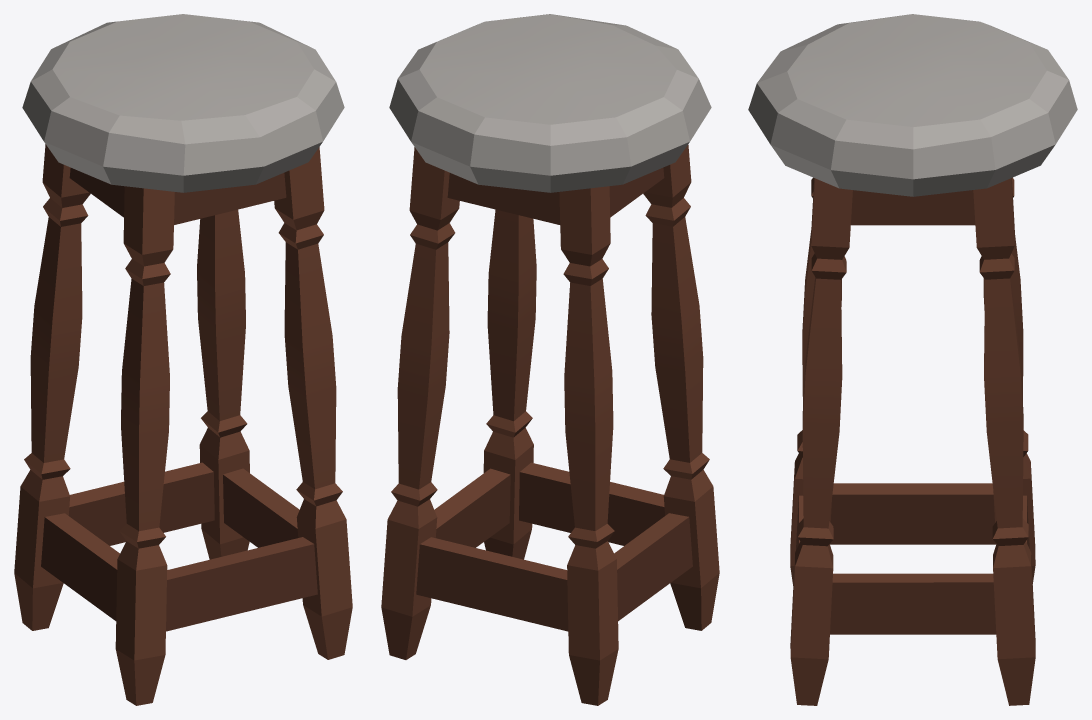
Rendered from SM_Prop_Bar_Stool_02.obj.
3 renders of one model, left to right at view 1: azimuth 30°, elevation 25°; view 2: azimuth 150°, elevation 25°; view 3: azimuth 270°, elevation 25°, orthographic. The views are drawn at different scales.
Parts seen in each view (by area): view 1: SM_Prop_Bar_Stool_02_0; view 2: SM_Prop_Bar_Stool_02_0; view 3: SM_Prop_Bar_Stool_02_0.
Part boxes in pixels (<box>): SM_Prop_Bar_Stool_02_0: <box>14,14,352,705</box>; SM_Prop_Bar_Stool_02_0: <box>381,14,719,705</box>; SM_Prop_Bar_Stool_02_0: <box>748,14,1077,705</box>.
Bounding box in the file's own units: 0.3771 × 0.7441 × 0.3771.
1 material, 1 textured.
